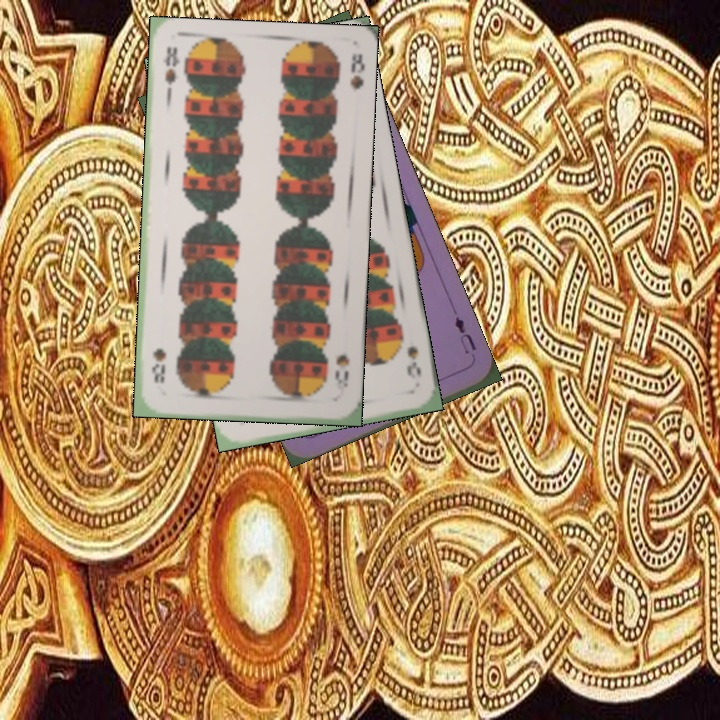EU: (450, 312, 479, 364)
S8: (158, 42, 182, 101), (331, 351, 352, 399)
S9: (394, 330, 424, 381)
